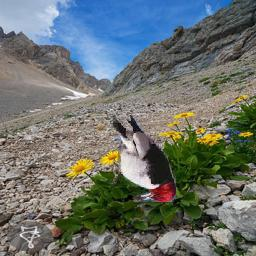Woodpecker: (110, 116, 176, 203)
